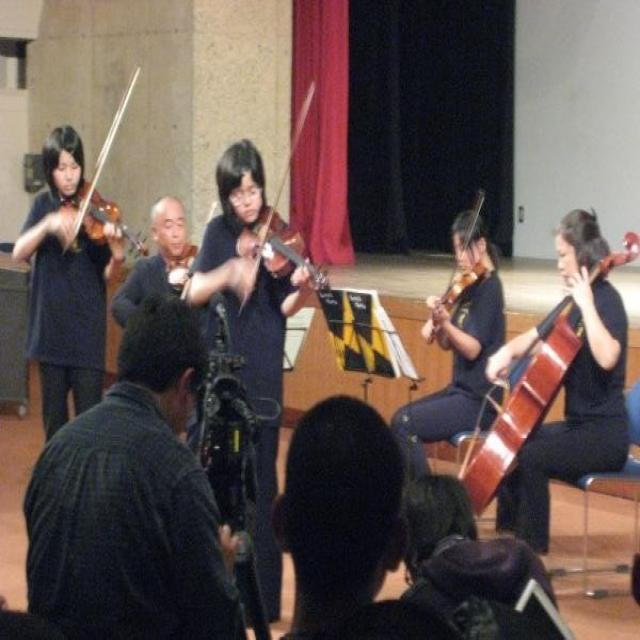cello: (457, 232, 640, 518)
violin: (250, 204, 328, 293), (68, 182, 148, 260), (432, 263, 489, 325), (166, 246, 198, 288)
